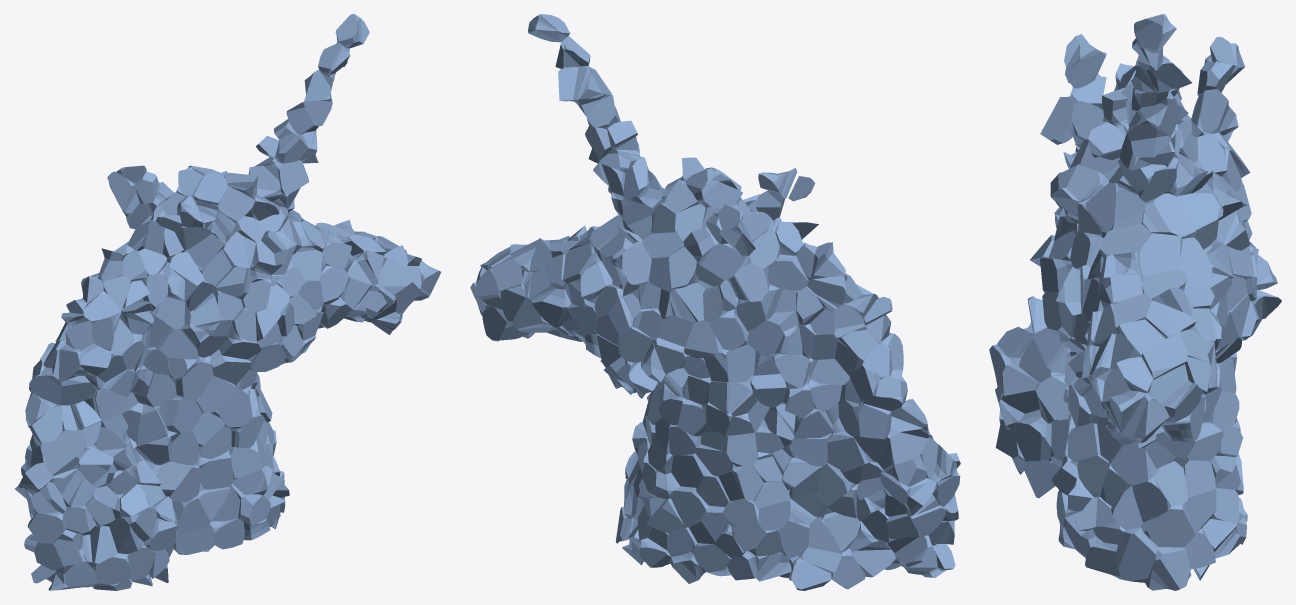
File: 55932_0.5pct_voromesh.glb
3 views of the same model, side by side, from view 1: azimuth 30°, elevation 25°; view 2: azimuth 150°, elevation 25°; view 3: azimuth 270°, elevation 25° (orthographic). The views are drawn at different scales.
Parts seen in each view (by area): view 1: 55932_noise_0.5pct_voromesh.obj; view 2: 55932_noise_0.5pct_voromesh.obj; view 3: 55932_noise_0.5pct_voromesh.obj.
Boxes of the visible parts, bbox=[...] form: 55932_noise_0.5pct_voromesh.obj: bbox=[14, 14, 441, 590]; 55932_noise_0.5pct_voromesh.obj: bbox=[470, 14, 960, 590]; 55932_noise_0.5pct_voromesh.obj: bbox=[989, 14, 1281, 590].
Bounding box in the file's own units: 1.5 × 1.6 × 0.6628.
